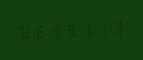eight: (17, 22, 31, 42)
four: (47, 21, 61, 40)
nine: (62, 20, 76, 39)
seven: (92, 18, 106, 38), (77, 19, 91, 38)
six: (32, 22, 46, 41)
three: (107, 18, 121, 37)
